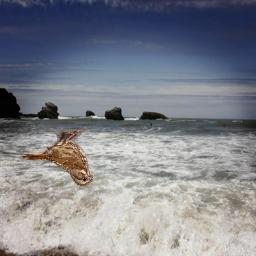Sparrow: (21, 129, 93, 187)
